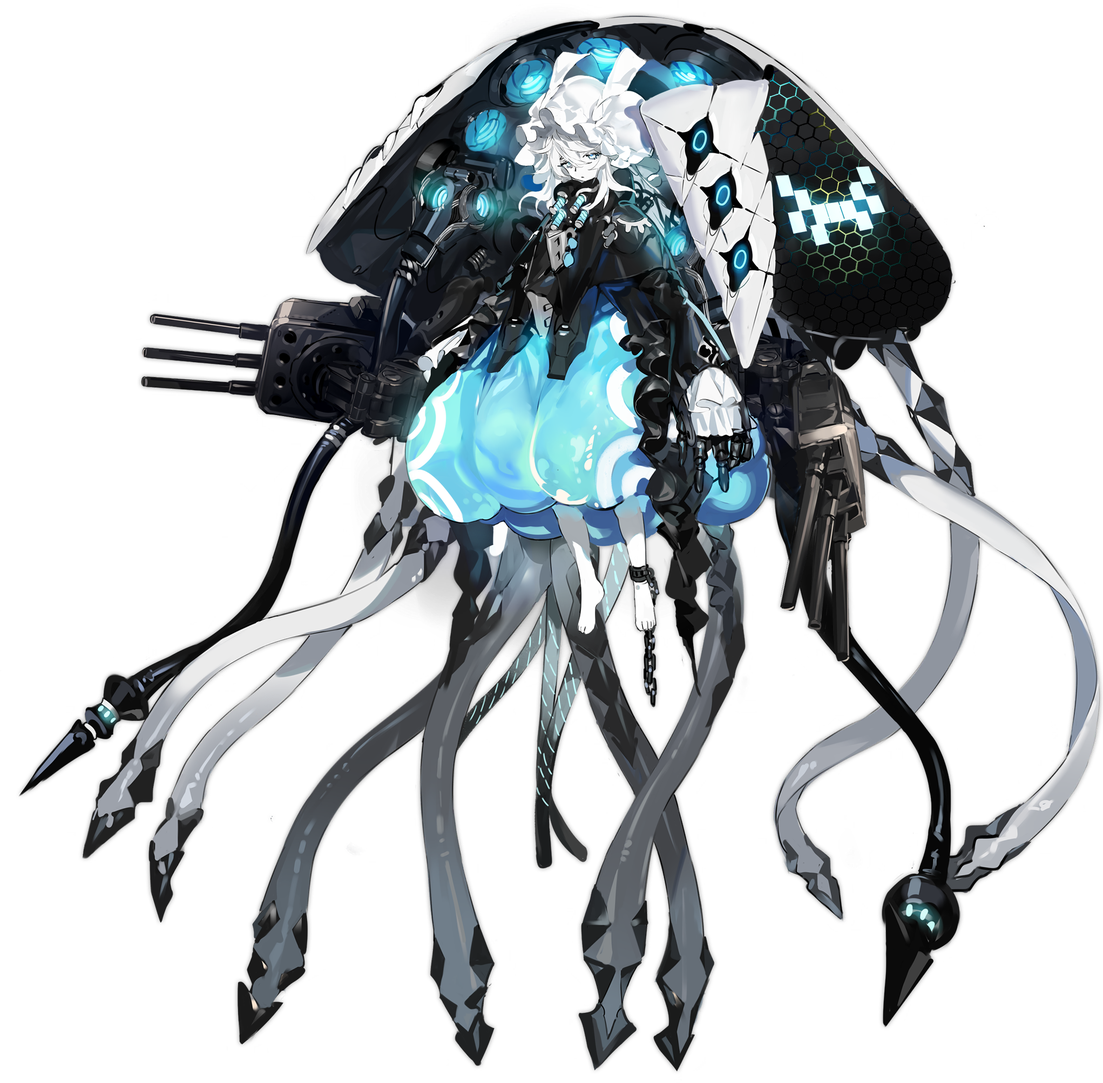person: (380, 3, 777, 1081)
